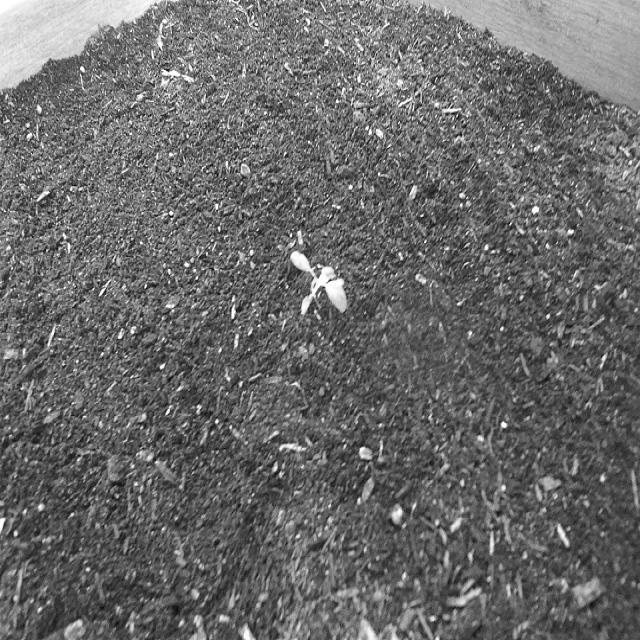Healthy: (288, 239, 351, 325)
